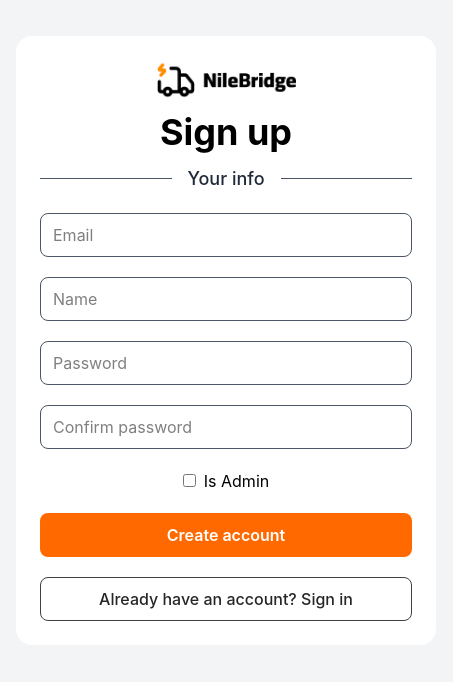
Test: Signup page › should detect non-matching passwords
This screenshot has width=453, height=682.
Type "test@mail.com" into the field with placeholder "Email" at (226, 234), box [40,212,412,256]
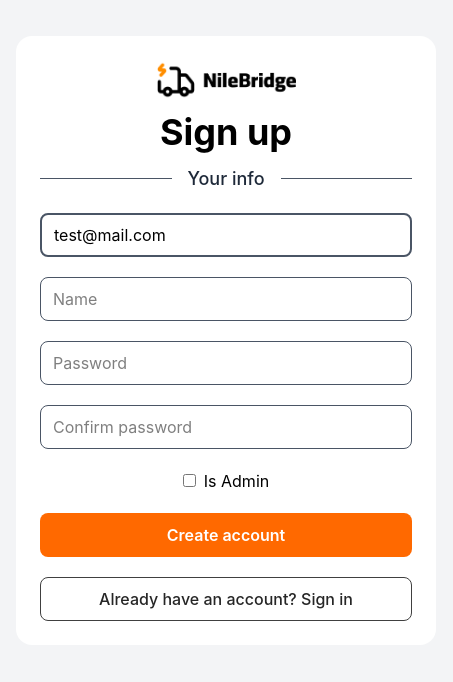
Type "Test user" into the field with placeholder "Name" at (226, 298), box [40,276,412,320]
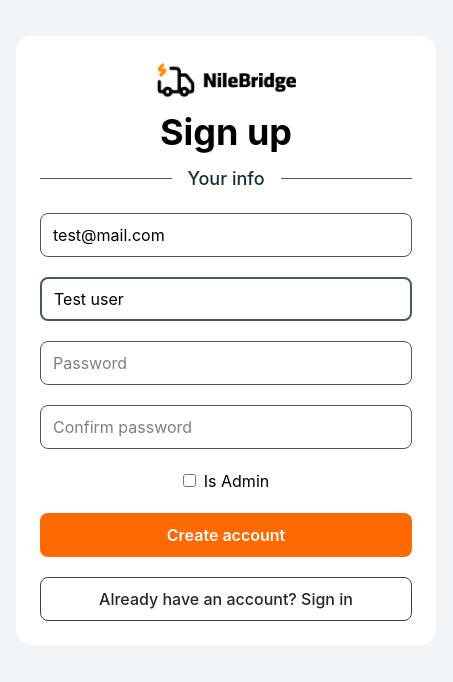
Type "password" into the password field with placeholder "Password" at (226, 362), box [40,340,412,384]
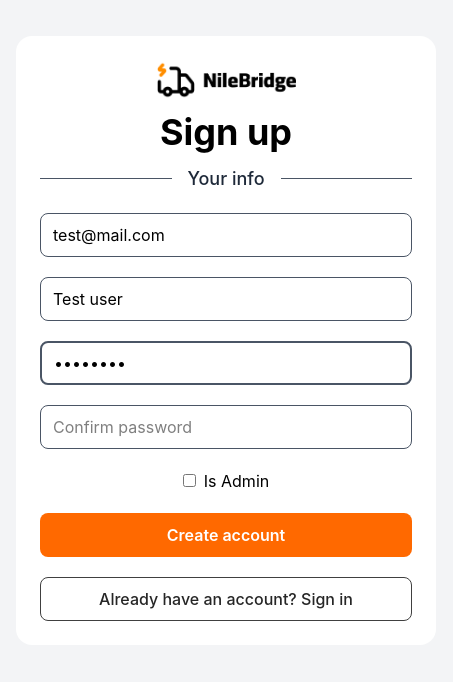
Type "different" into the password field with placeholder "Confirm password" at (226, 426), box [40,404,412,448]
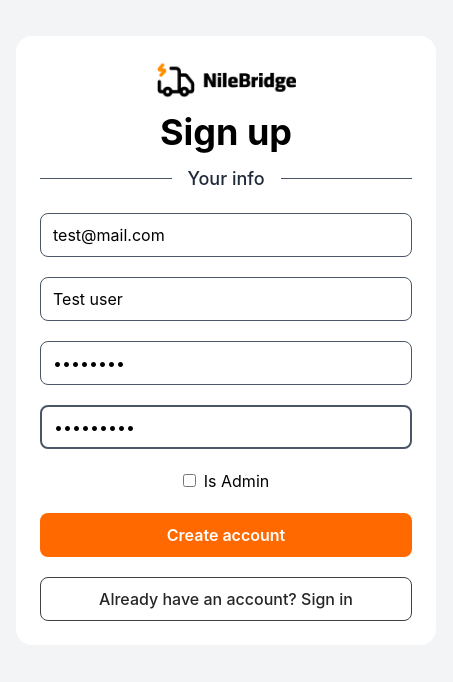
Click the button "Create account" at (226, 534), box [40,512,412,556]
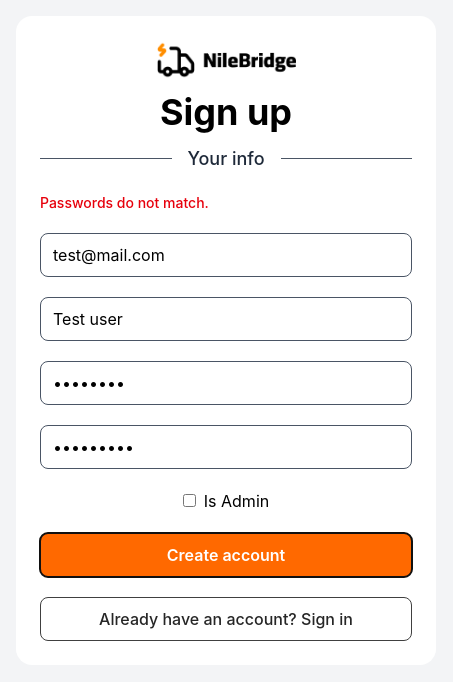
expect the text "Passwords do not match." is shown: met, box [40,194,209,210]
